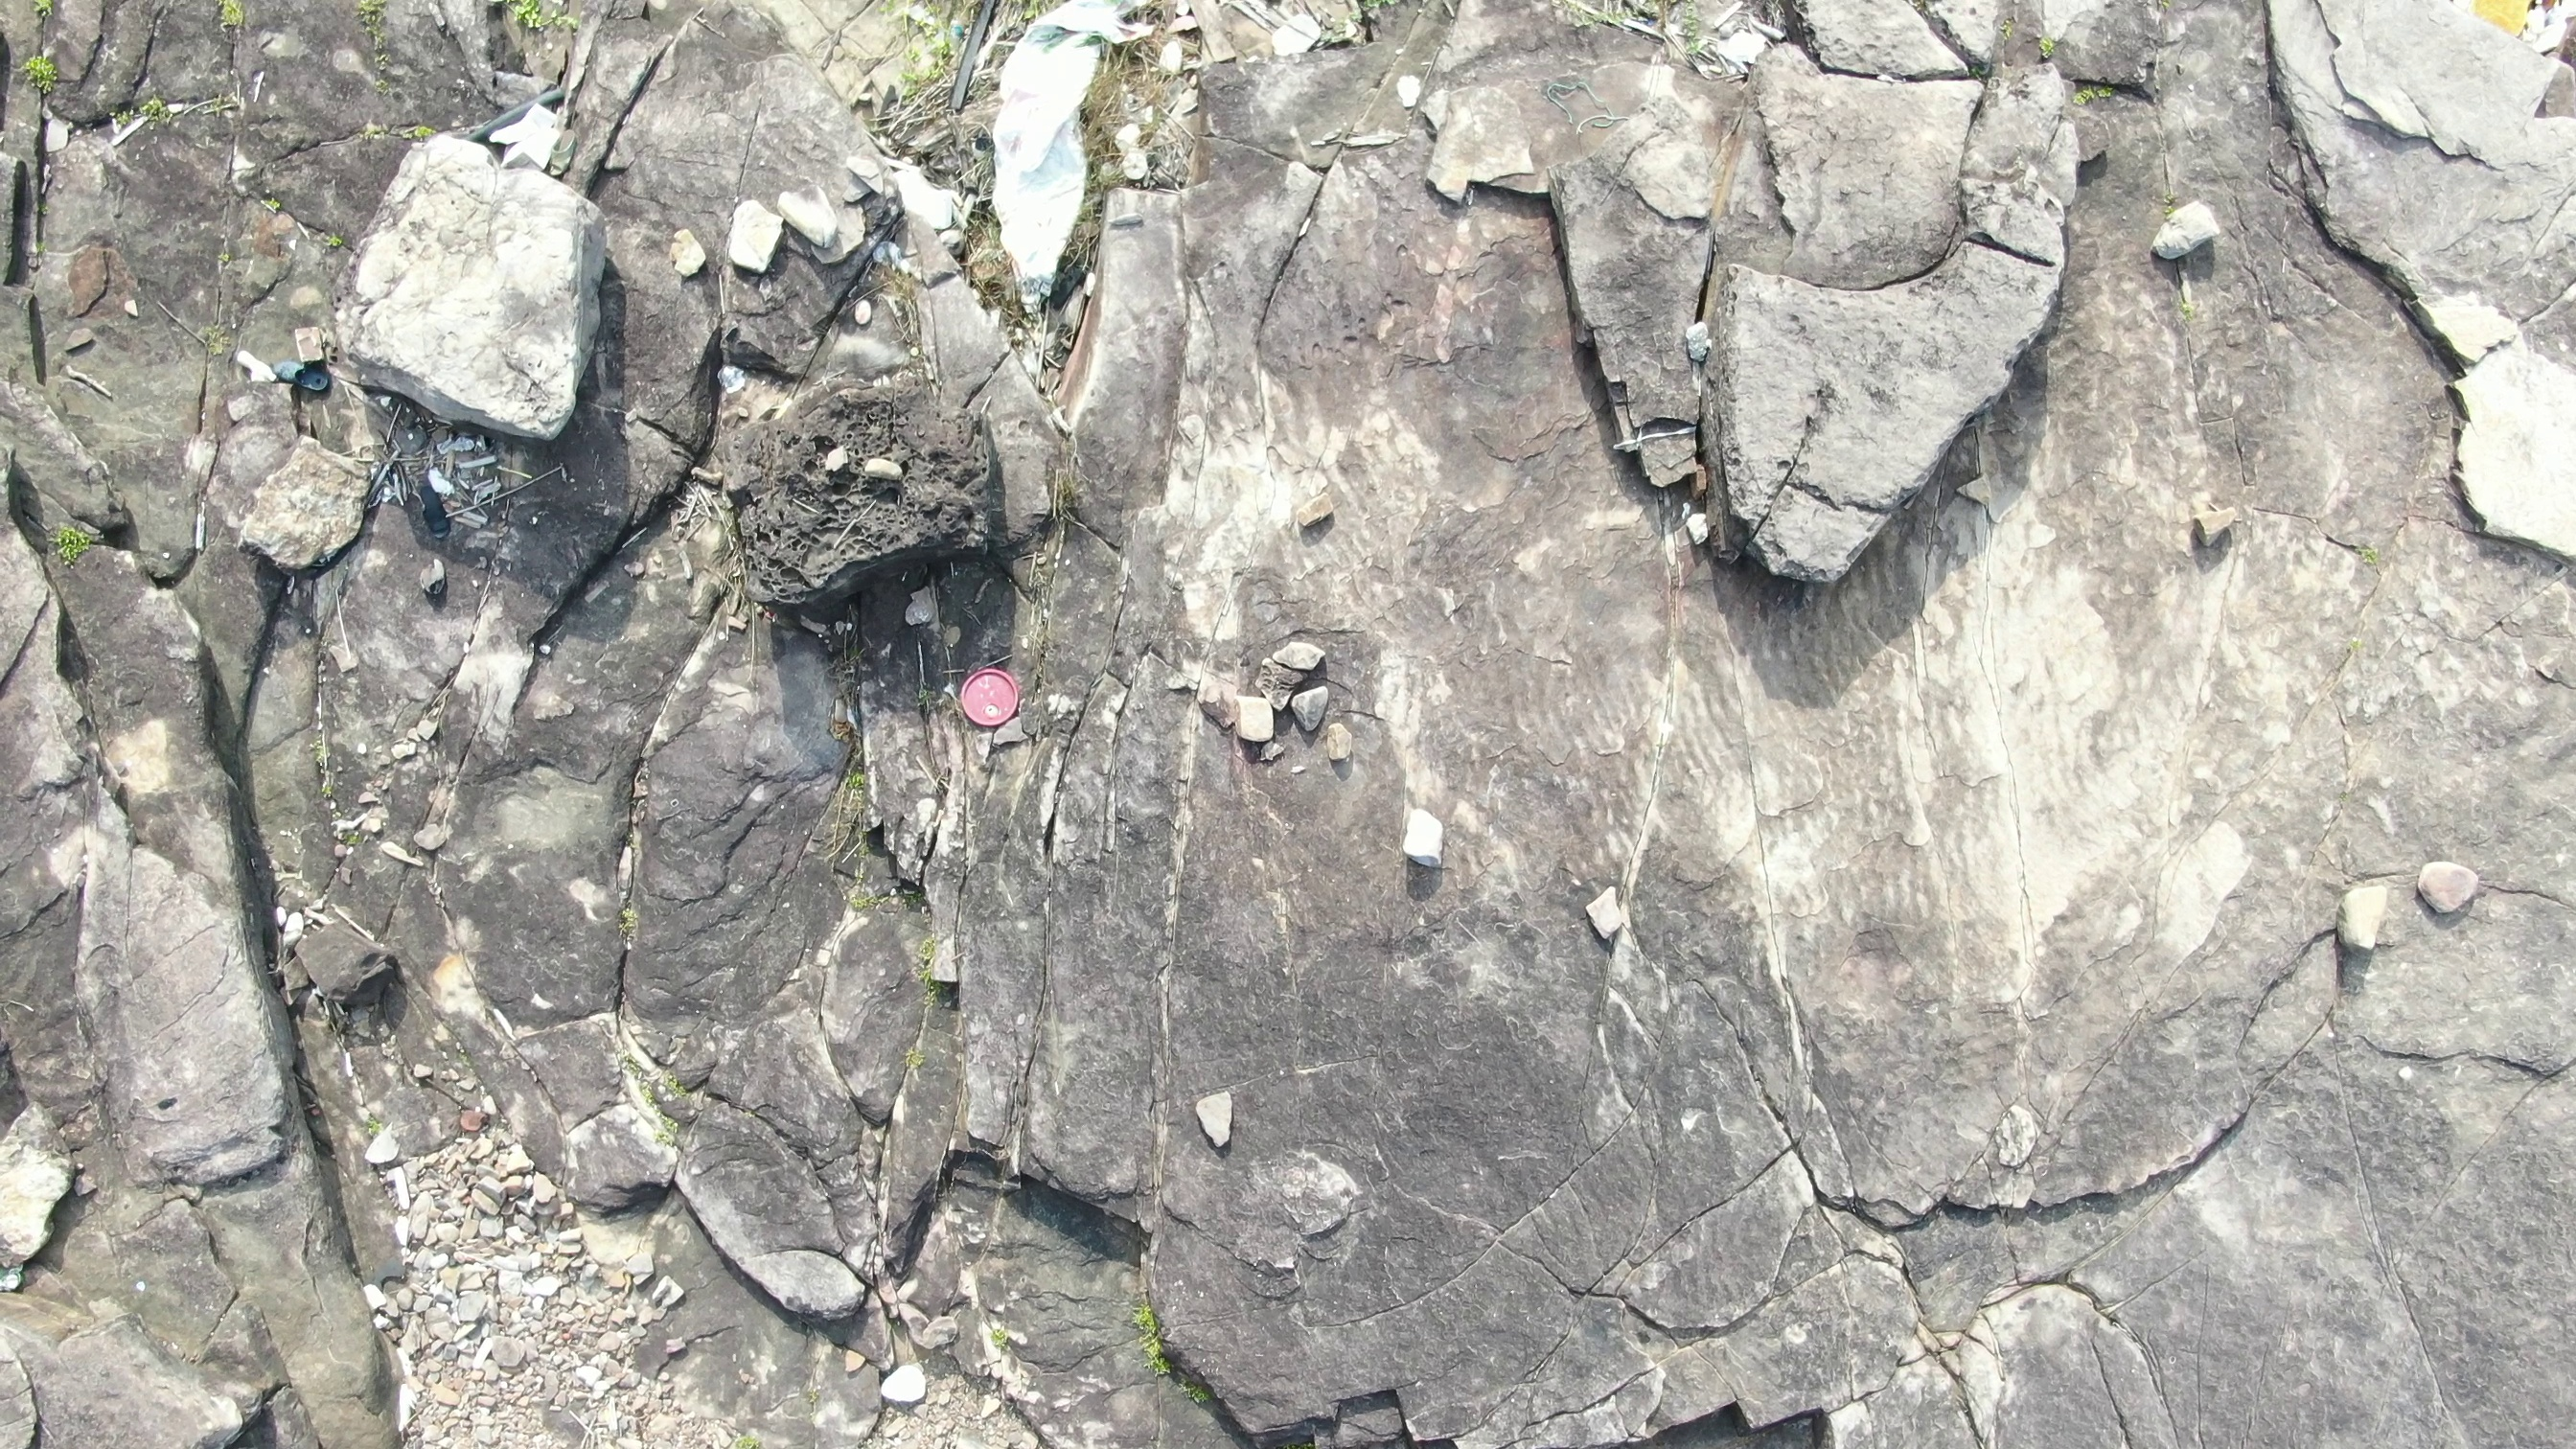garbage: (973, 2, 1106, 324), (950, 658, 1030, 727), (267, 352, 338, 402), (2470, 2, 2537, 39)
